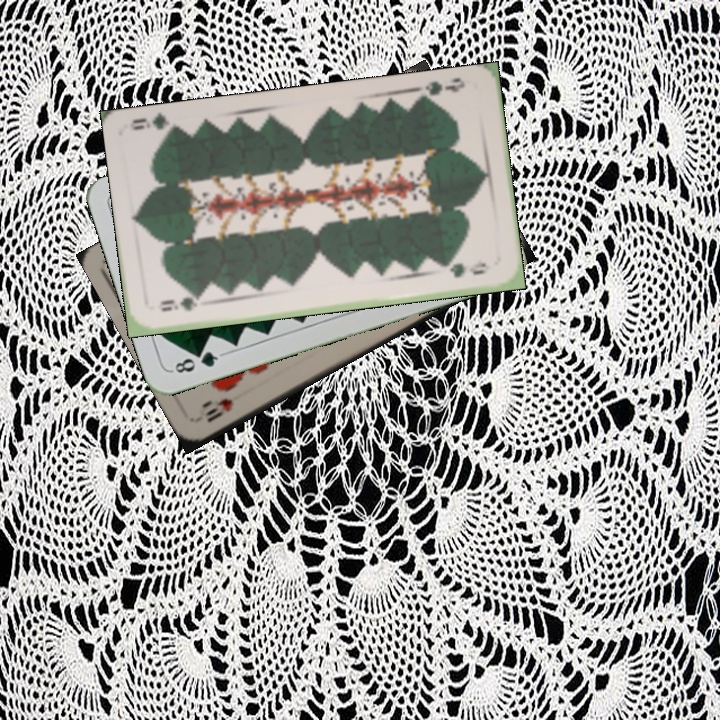G8: (168, 347, 225, 376)
G9: (416, 73, 468, 104), (156, 293, 207, 314)
H10: (201, 394, 236, 425)
